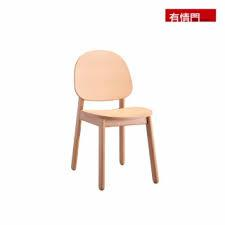chair: (44, 42, 172, 192)
